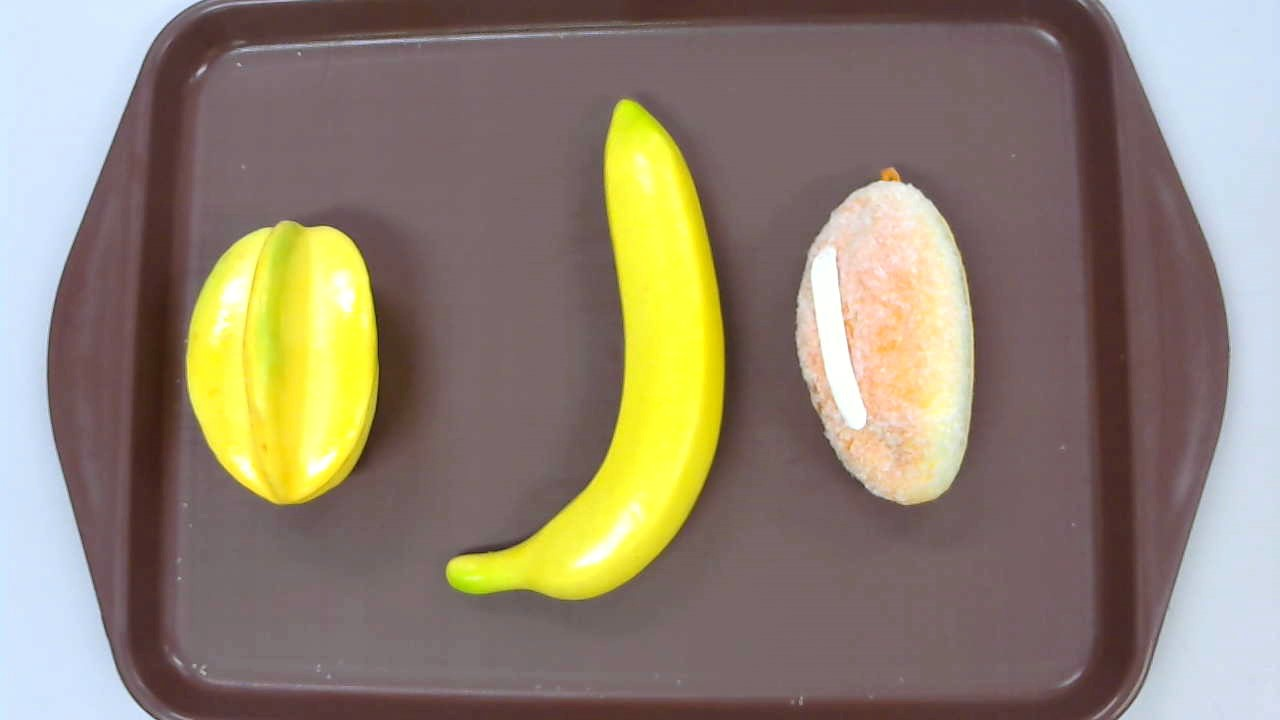banana: (444, 98, 727, 602)
coconut: (794, 168, 973, 507)
star fruit: (185, 220, 381, 503)
